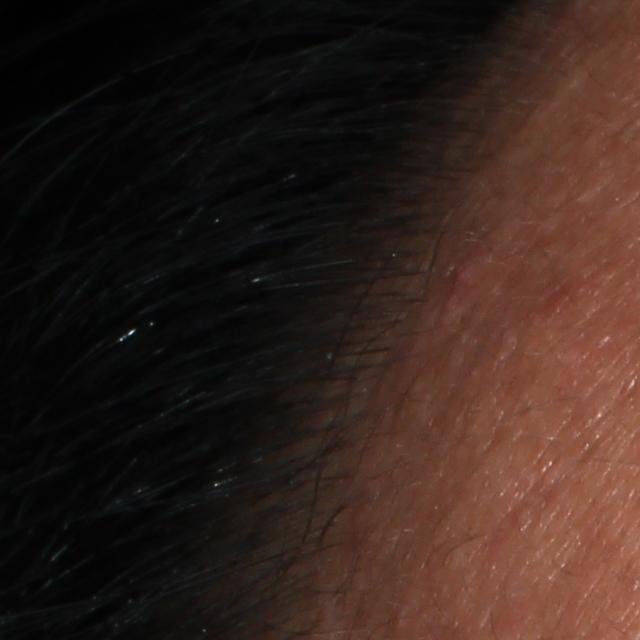papule: (445, 252, 485, 289)
